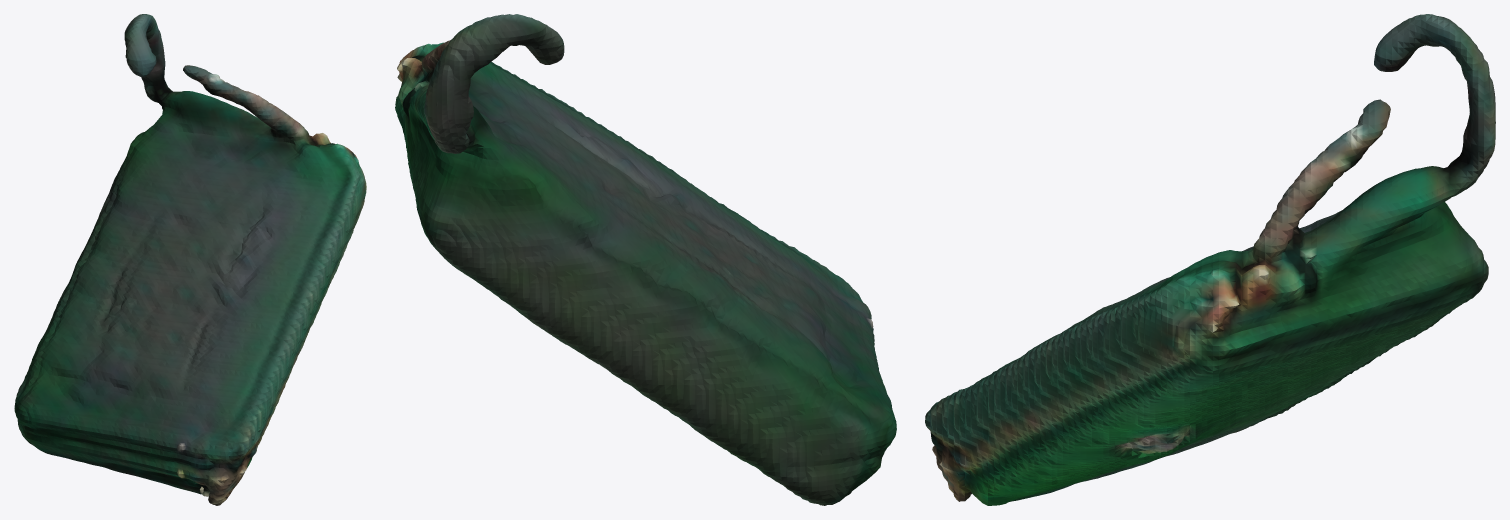
The picture shows the model from 3 angles, left to right: view 1: azimuth 30°, elevation 25°; view 2: azimuth 150°, elevation 25°; view 3: azimuth 270°, elevation 25°; orthographic projection. The views are drawn at different scales.
Size of the model in its own units: 0.7141 by 0.706 by 0.6753.
